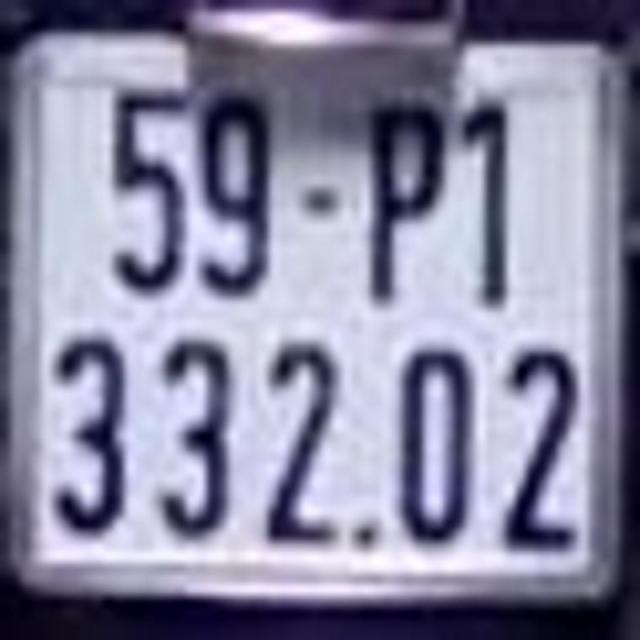0: (405, 336, 470, 545)
1: (464, 104, 516, 306)
2: (262, 324, 336, 542), (508, 342, 576, 548)
3: (48, 337, 129, 538), (166, 332, 227, 530)
5: (110, 89, 184, 290)
9: (202, 105, 273, 296)
P: (367, 100, 448, 310)
